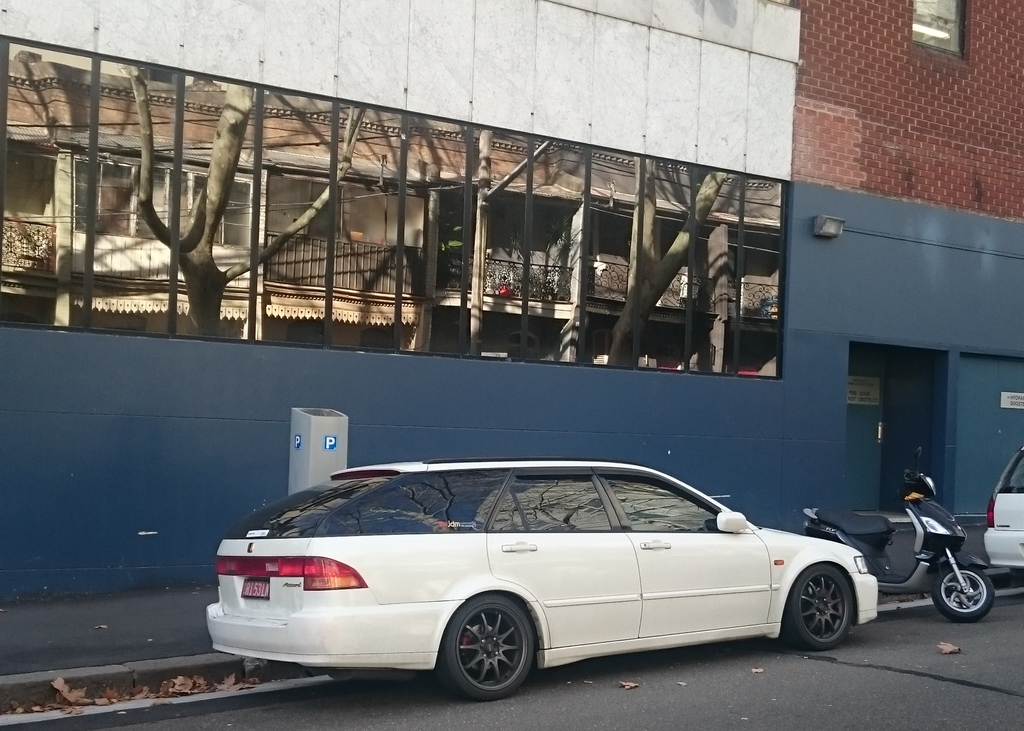cars: (207, 455, 878, 703), (983, 442, 1023, 584)
